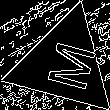M_W: (33, 35, 94, 92)
